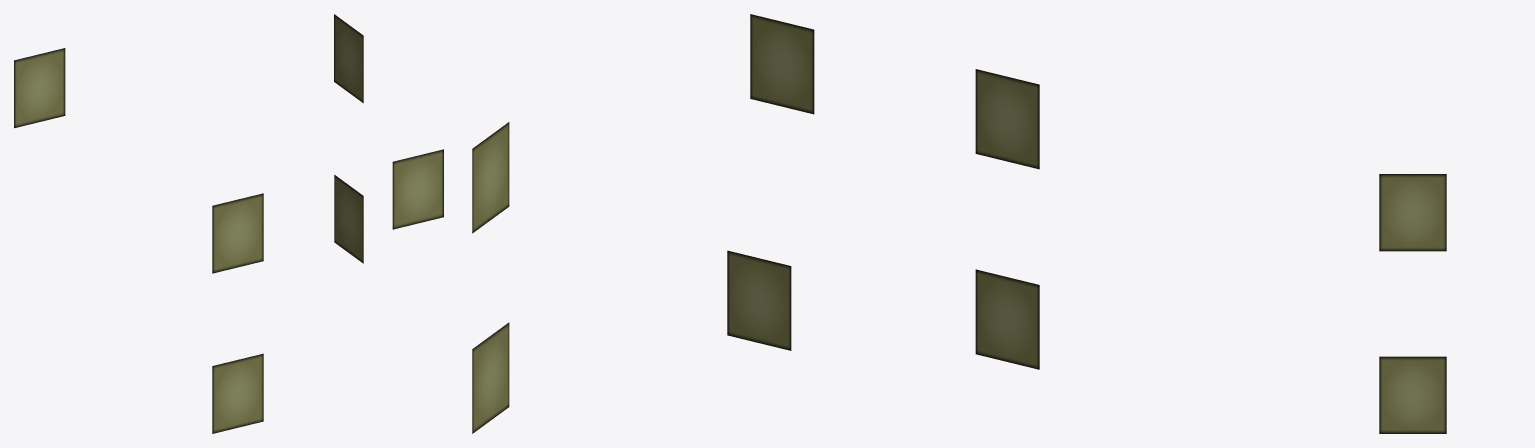
Rendered from house_14.FBX.
The picture shows the model from 3 angles, left to right: view 1: azimuth 30°, elevation 25°; view 2: azimuth 150°, elevation 25°; view 3: azimuth 270°, elevation 25°; orthographic projection. The views are drawn at different scales.
Parts seen in each view (by area): view 1: house_14_windows; view 2: house_14_windows; view 3: house_14_windows.
Boxes of the visible parts, x1,y1,x2,y2 form: house_14_windows: [14, 14, 443, 433]; house_14_windows: [472, 14, 1039, 433]; house_14_windows: [1379, 174, 1446, 433].
Bounding box in the file's own units: 63.85 × 48.4 × 76.29.
